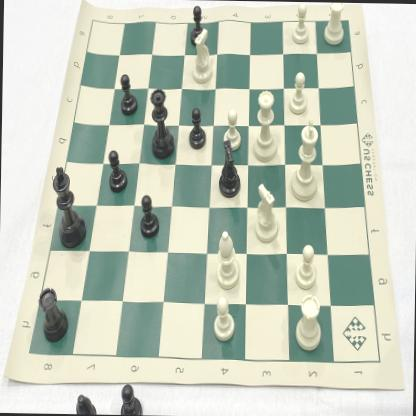black-king: (49, 162, 89, 252)
black-knight: (214, 138, 243, 198)
black-pawn: (137, 191, 162, 239), (105, 147, 129, 194), (117, 71, 139, 119), (186, 106, 208, 151), (188, 3, 204, 46)
black-queen: (148, 86, 176, 162)
black-rook: (35, 278, 70, 347)
white-bishop: (213, 226, 240, 290)
white-king: (288, 115, 322, 202)
white-knight: (251, 178, 280, 242), (190, 26, 214, 85)
white-pawn: (211, 294, 238, 342), (292, 242, 318, 290), (288, 69, 310, 115), (290, 2, 311, 44), (222, 107, 242, 150)
white-queen: (251, 85, 278, 165)
white-rook: (291, 292, 326, 353), (322, 2, 346, 46)
